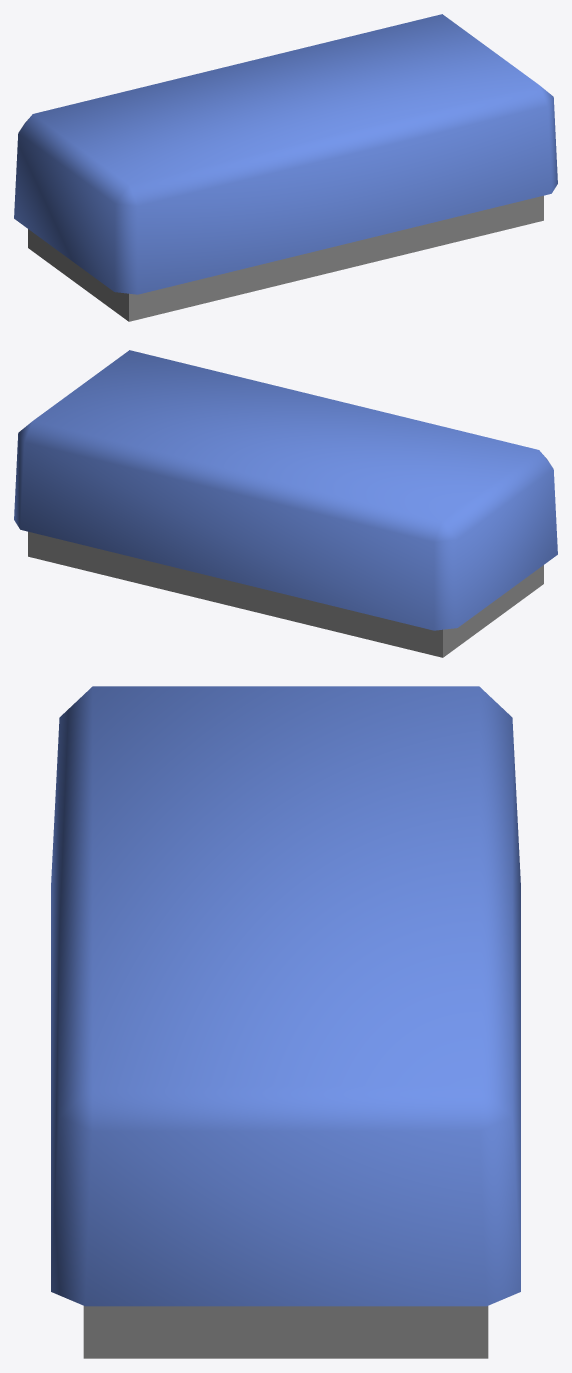
Rendered from ホワイトボードクリーナー.fbx.
The picture shows the model from 3 angles, top to bottom: view 1: azimuth 30°, elevation 25°; view 2: azimuth 150°, elevation 25°; view 3: azimuth 270°, elevation 25°; orthographic projection. The views are drawn at different scales.
Visible parts, largest first — view 1: Cube; view 2: Cube; view 3: Cube.
Part boxes in pixels (x1,y1,x2,y2): Cube: (14, 14, 557, 321); Cube: (14, 350, 557, 657); Cube: (51, 686, 520, 1358).
Size of the model in its own units: 0.1525 by 0.0443 by 0.07.
